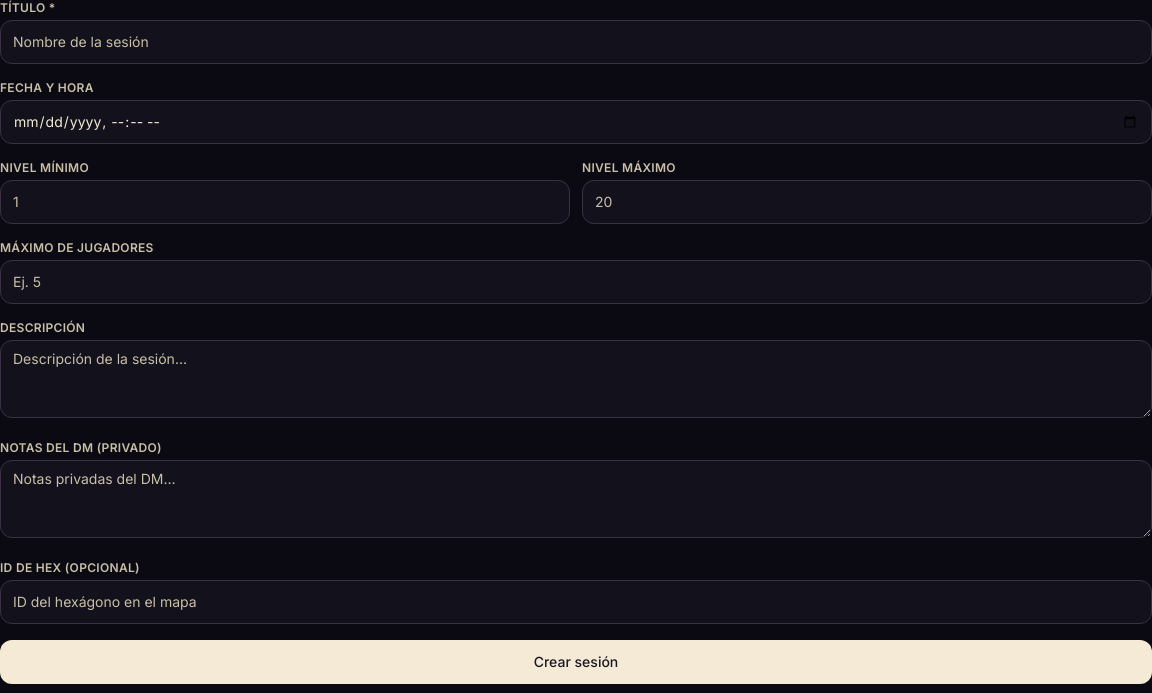
Test: SessionCreateForm › surfaces 403 forbidden error message inline
In the field labelled "Título *": [576, 42] box [0,20,1151,64], type "Sin permisos"
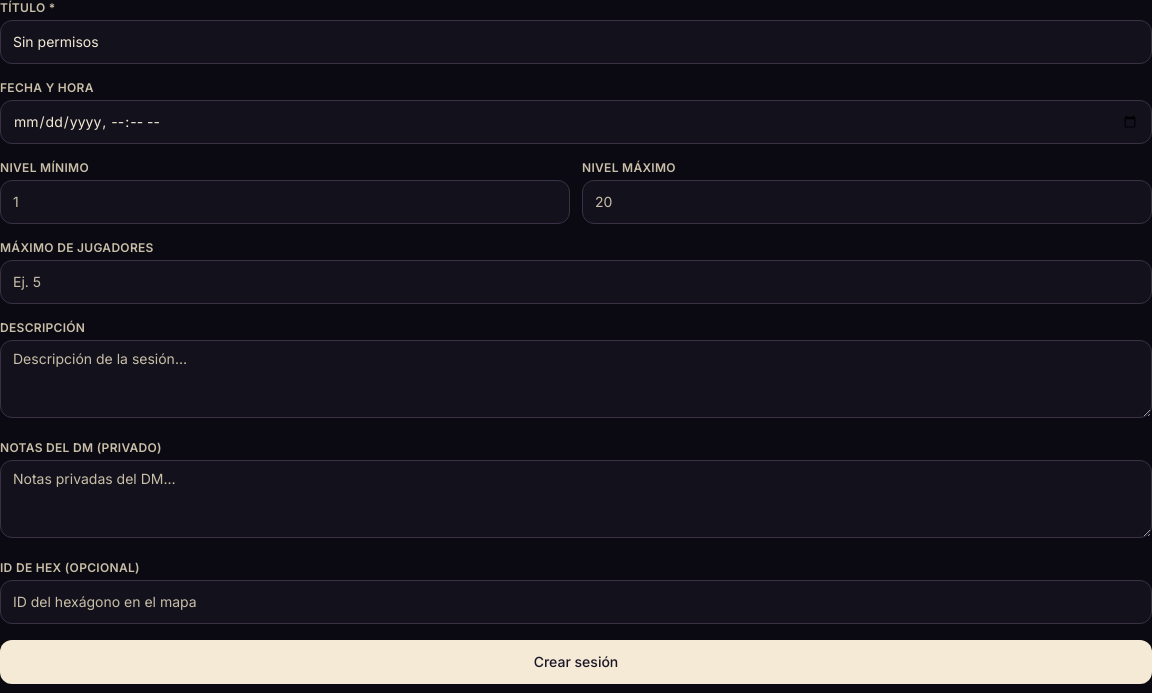
Click the button "Crear sesión": [576, 662] box [0,640,1151,684]
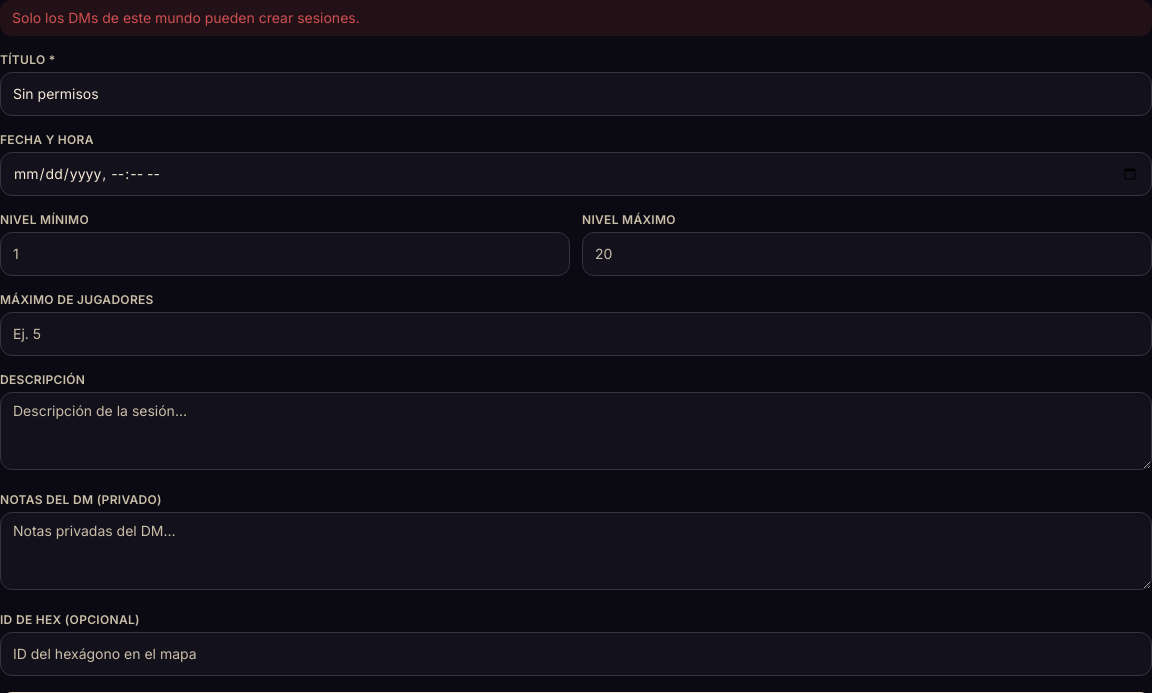
Check: the message reads "Solo los DMs de este mundo pueden crear sesiones.", box [12,9,360,26]
